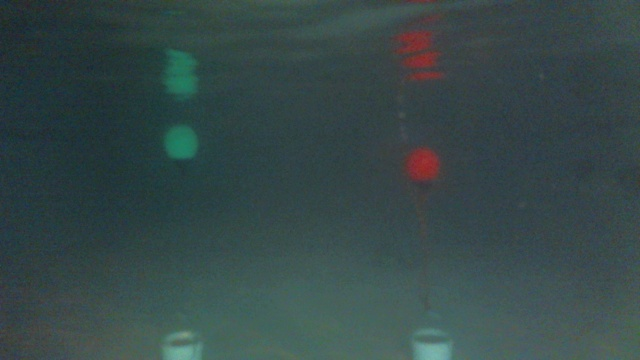buoy_green: (162, 122, 199, 174)
buoy_red: (404, 147, 440, 190)
